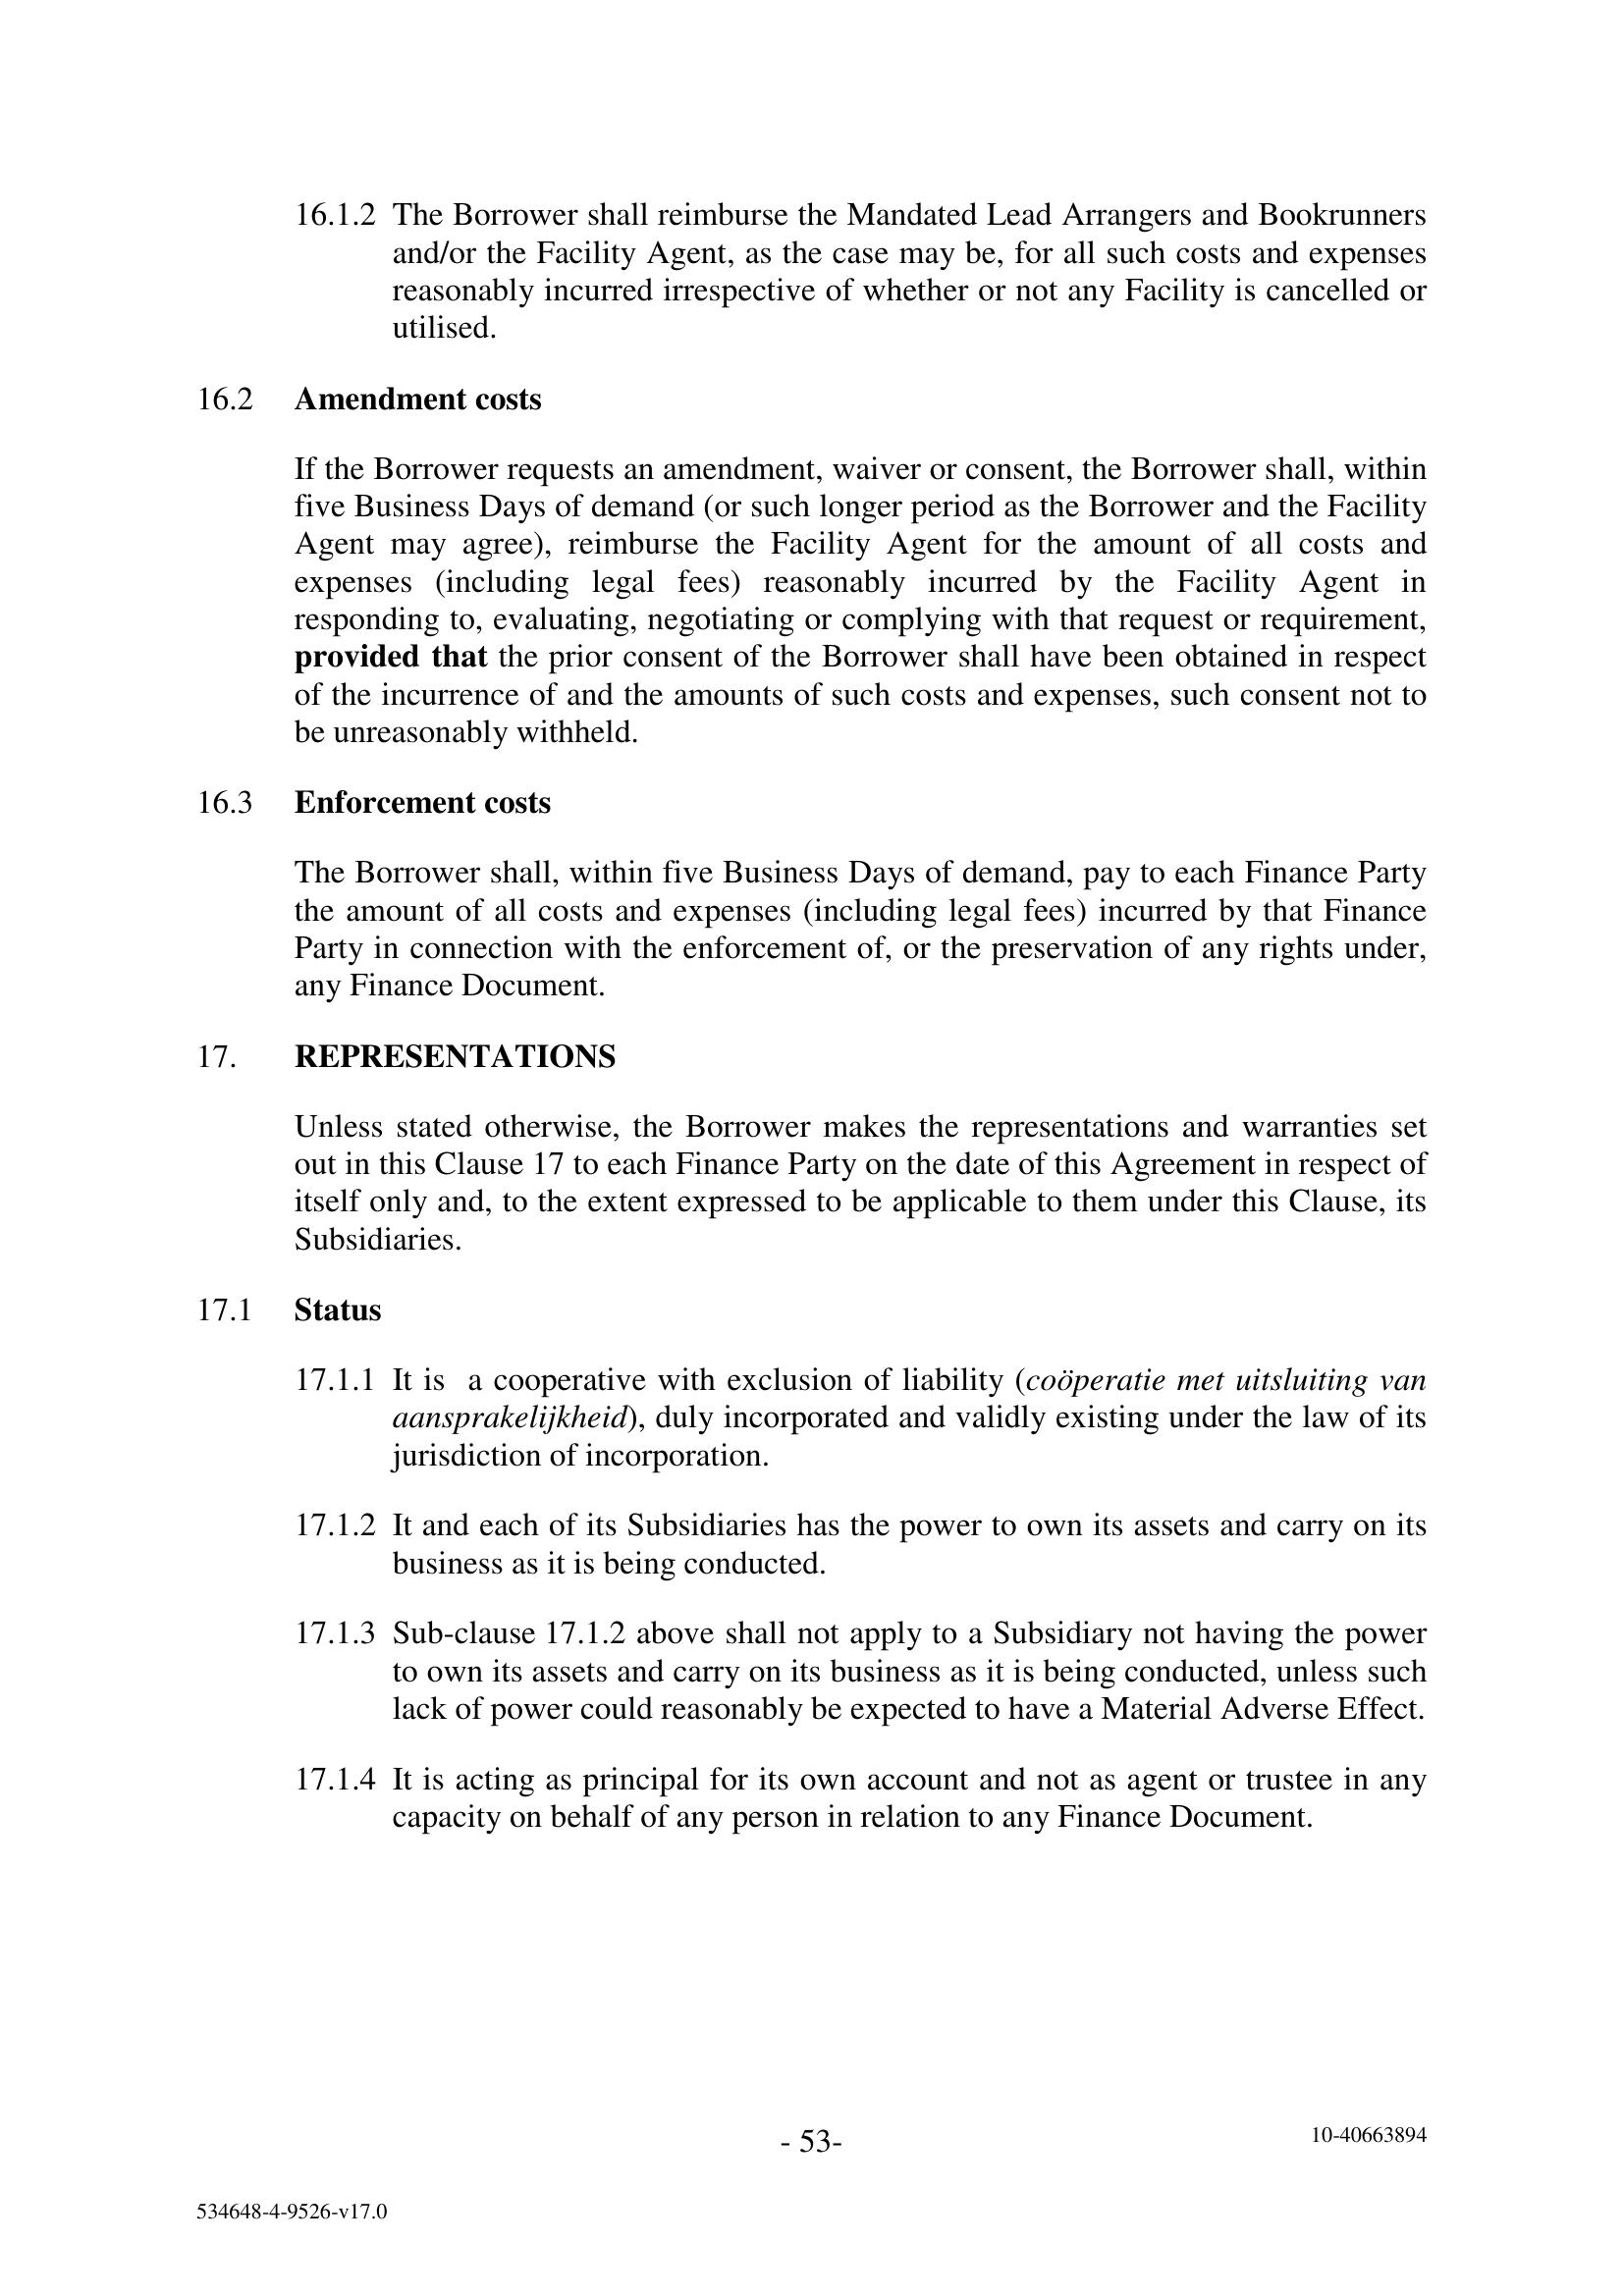pageno: (718, 2096, 910, 2203)
tag: (1180, 2085, 1542, 2198), (109, 2161, 480, 2266)
